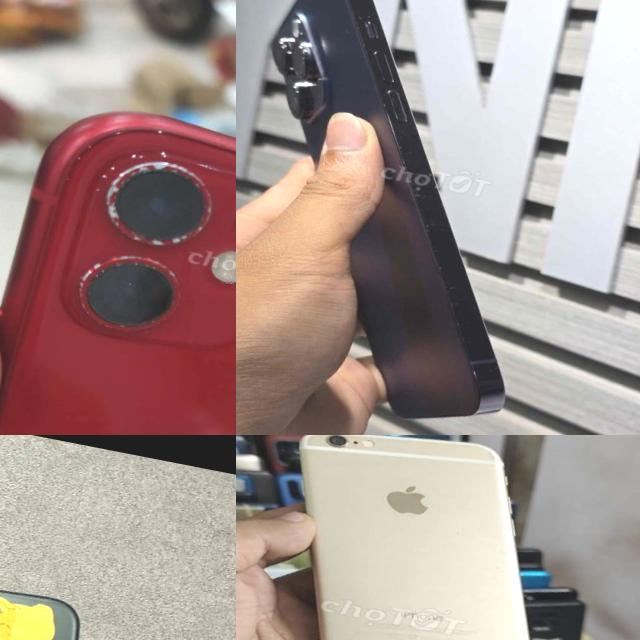gen_11: (0, 81, 236, 435), (0, 546, 123, 640)
gen_14: (236, 0, 594, 435)
gen_6: (302, 435, 532, 640)
scratch: (58, 122, 236, 347), (486, 560, 506, 574)
